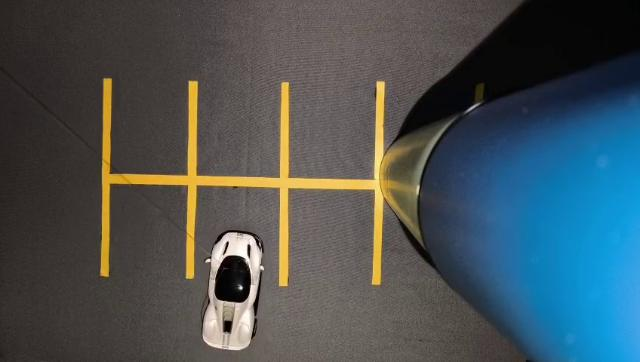toy_car: (187, 193, 296, 362)
